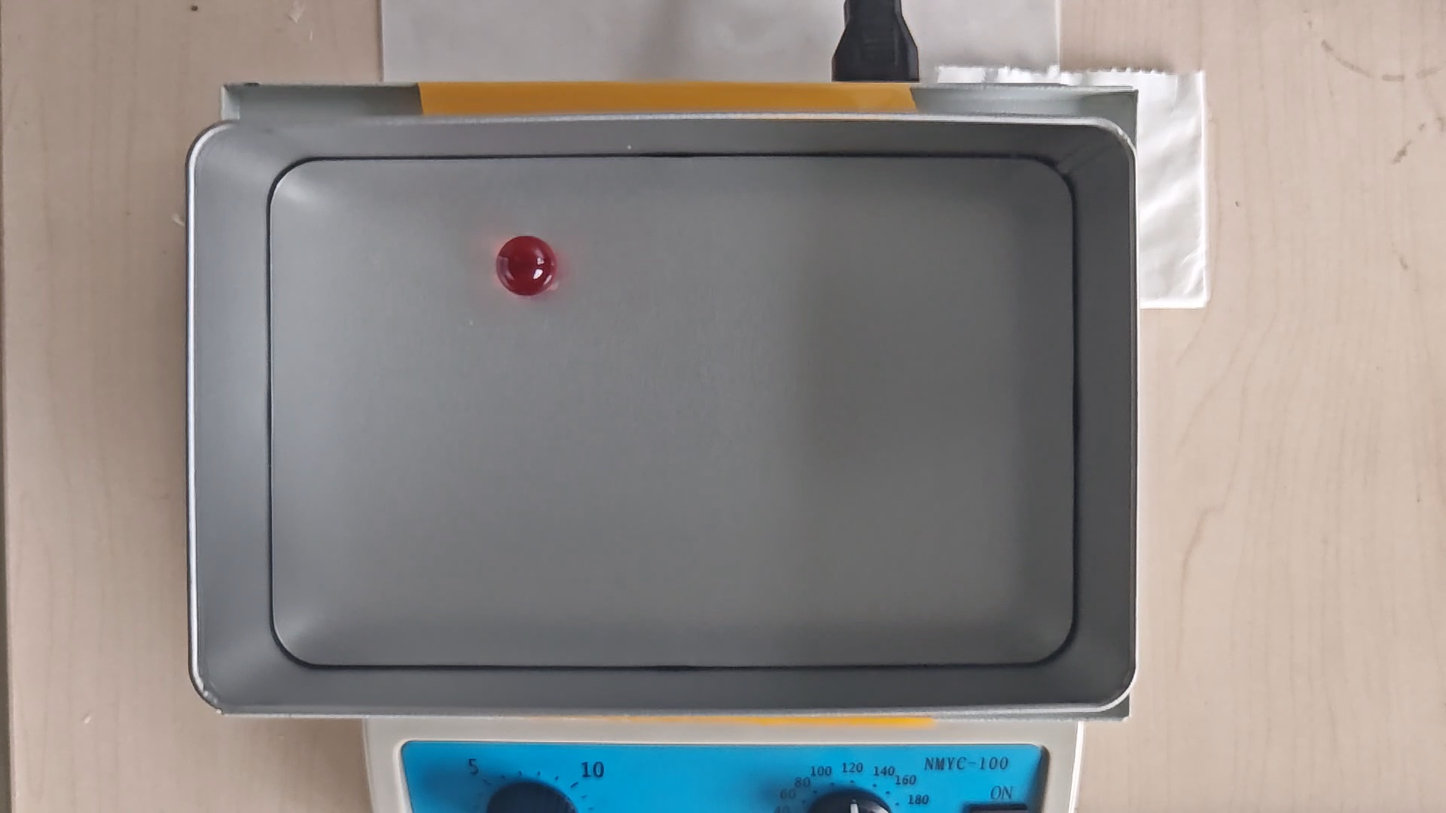ball: (495, 235, 556, 297)
container: (269, 158, 1075, 666)
